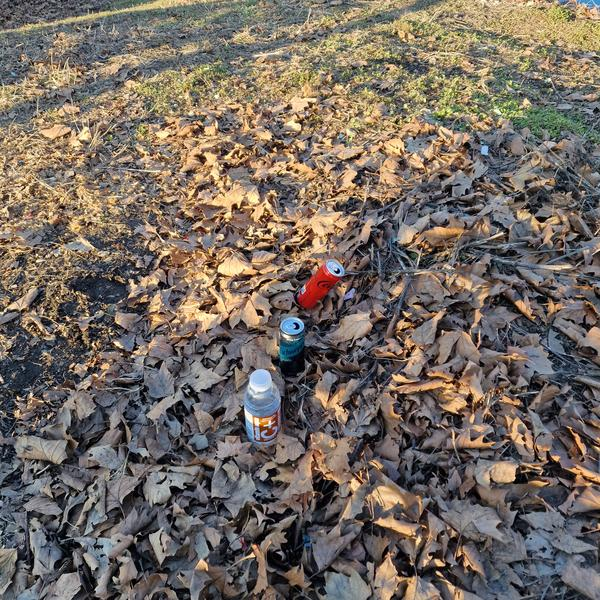can: (291, 254, 348, 315), (279, 317, 305, 373)
plastic_bottle: (244, 369, 281, 446)
